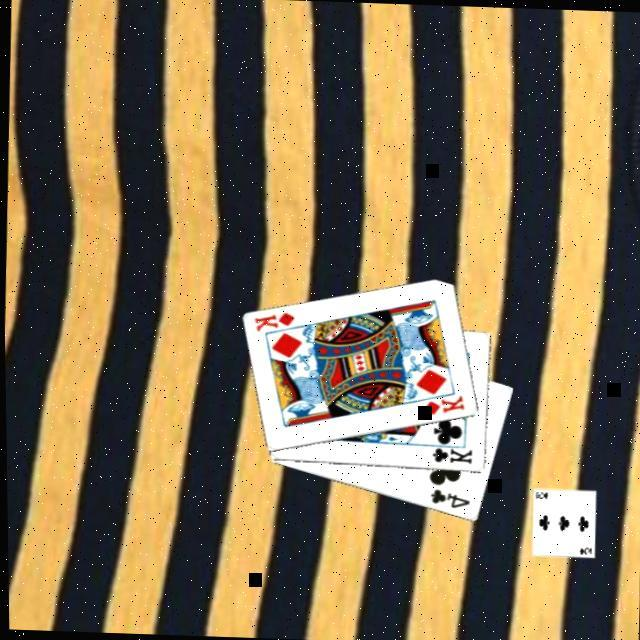4C: (426, 486, 473, 512)
KC: (426, 442, 475, 468)
KD: (420, 392, 469, 420), (252, 309, 299, 337)
